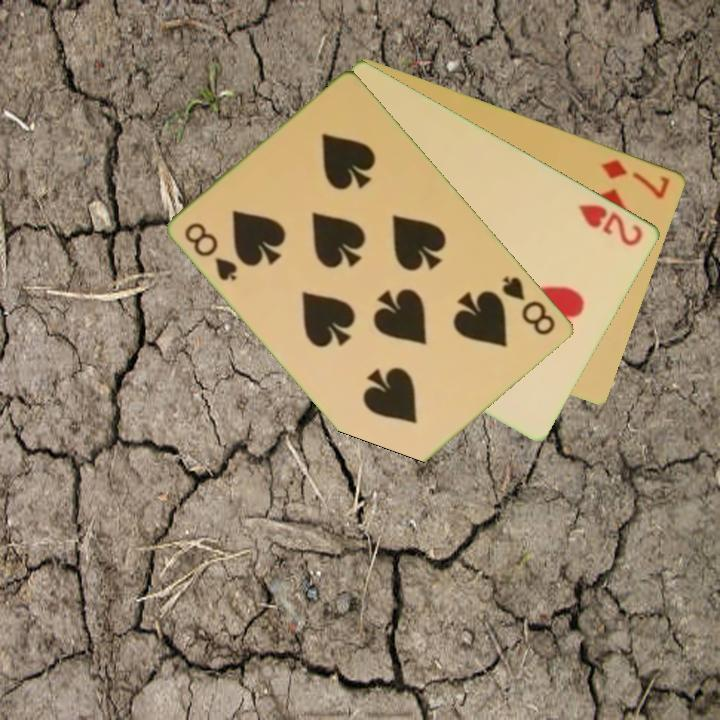2h: (575, 200, 646, 250)
7d: (598, 155, 673, 202)
8s: (499, 272, 559, 339), (181, 219, 241, 284)
